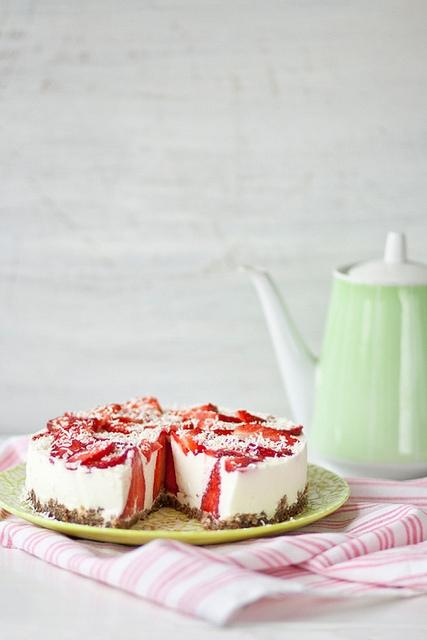strawberry: (120, 446, 146, 519), (232, 424, 298, 446), (199, 458, 222, 520), (67, 440, 116, 465), (178, 427, 220, 456), (86, 448, 132, 469), (52, 422, 93, 443), (165, 442, 179, 497), (192, 409, 243, 423), (170, 430, 190, 456), (224, 457, 250, 473), (237, 411, 266, 424), (204, 449, 244, 458), (92, 406, 117, 420), (254, 447, 283, 458), (90, 419, 111, 433), (140, 442, 152, 465), (277, 426, 303, 436), (199, 402, 217, 413), (149, 398, 162, 413), (213, 428, 234, 436), (64, 412, 77, 424), (47, 423, 57, 431), (183, 422, 193, 429)
